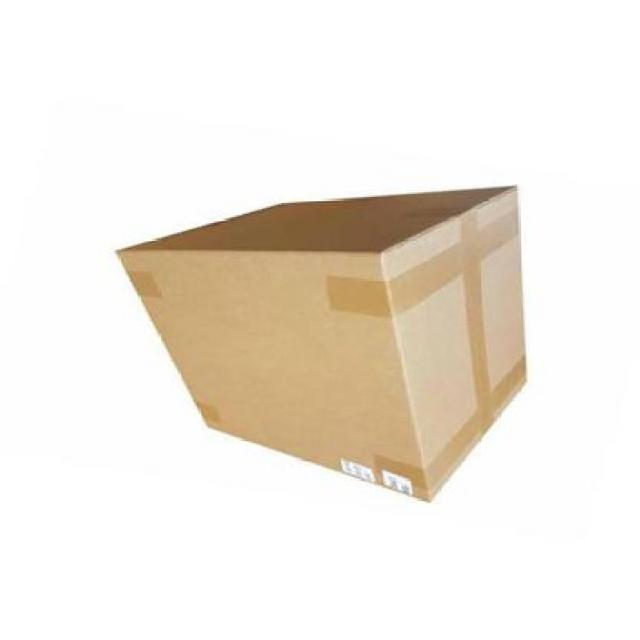normal: (112, 171, 537, 512)
